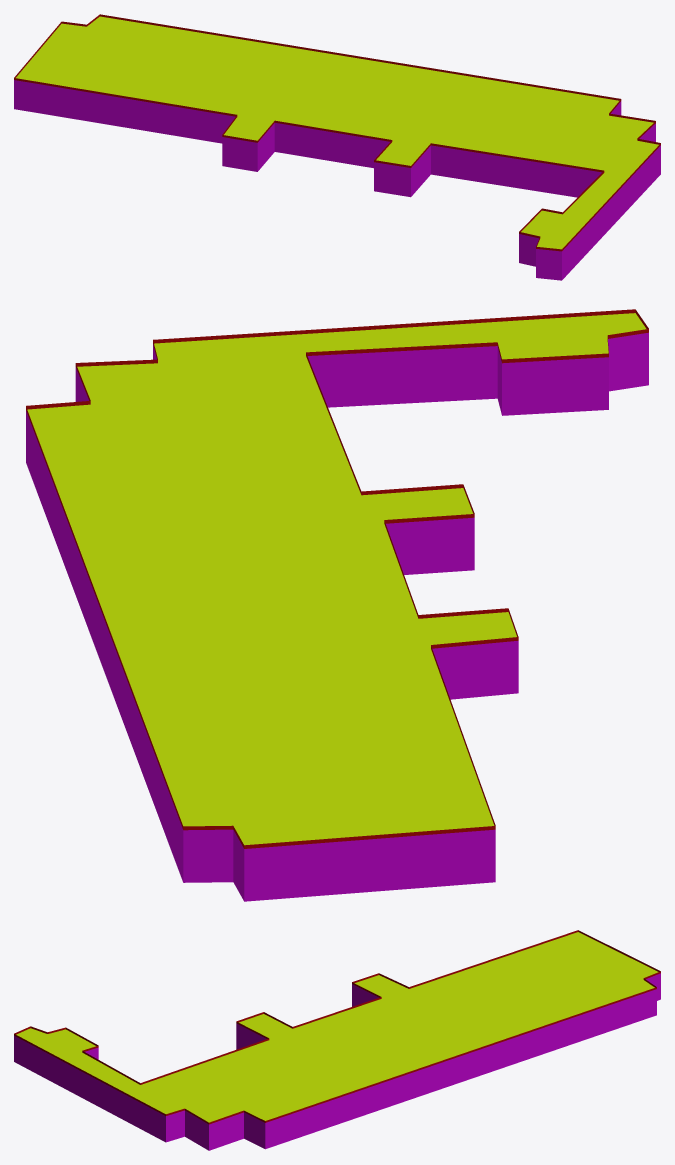
The model's file is bgj_129.glb.
The picture shows the model from 3 angles, top to bottom: view 1: azimuth 30°, elevation 25°; view 2: azimuth 150°, elevation 25°; view 3: azimuth 270°, elevation 25°; orthographic projection. The views are drawn at different scales.
Parts seen in each view (by area): view 1: bgj_129; view 2: bgj_129; view 3: bgj_129.
Boxes of the visible parts, x1,y1,x2,y2 form: bgj_129: (14,14,660,280); bgj_129: (26,309,648,901); bgj_129: (14,930,660,1150).
Bounding box in the file's own units: 76.23 × 5.21 × 108.
